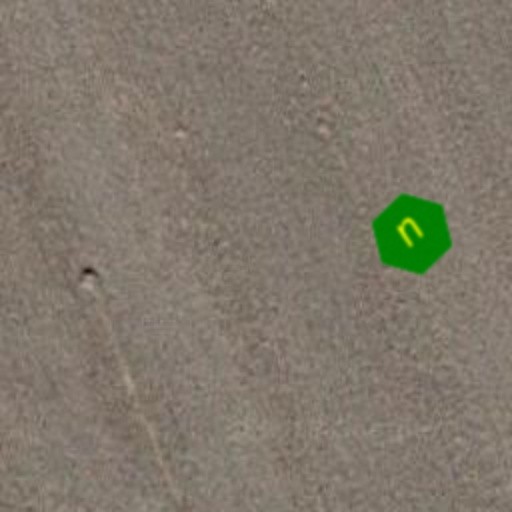hexagon: (350, 172, 474, 296)
